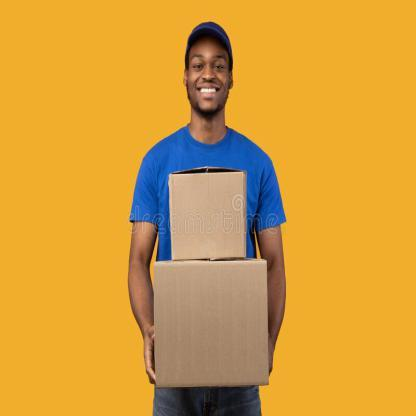package: (151, 261, 271, 389), (162, 161, 250, 261)
